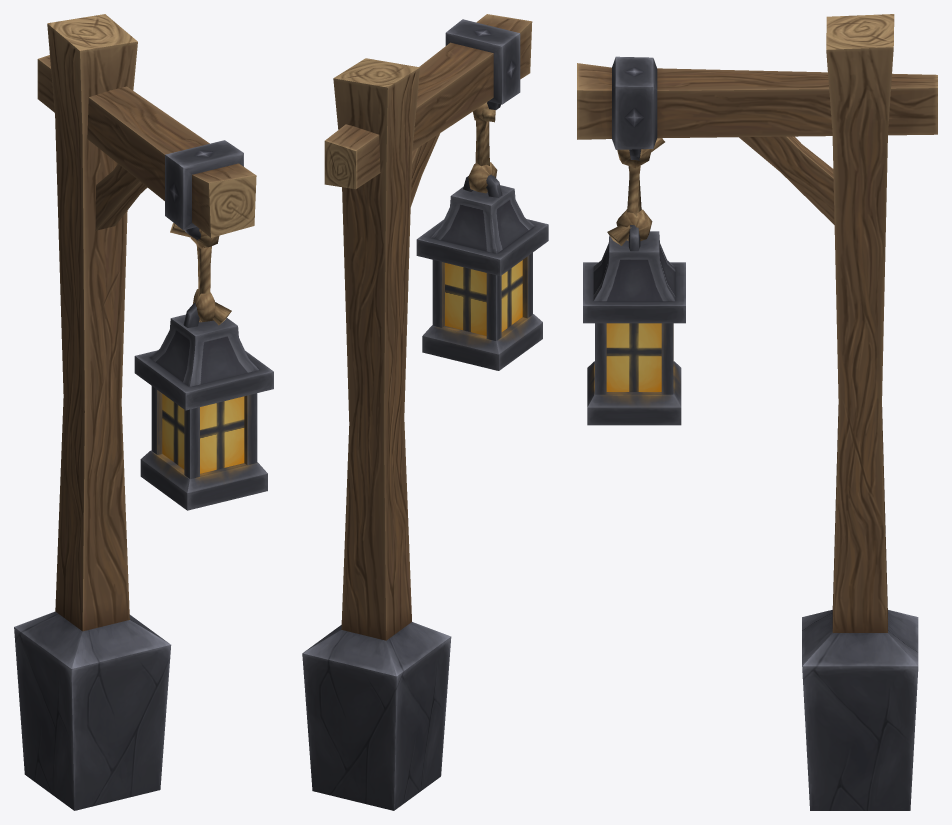
File: Lamp1.fbx
3 views of the same model, side by side, from view 1: azimuth 30°, elevation 25°; view 2: azimuth 150°, elevation 25°; view 3: azimuth 270°, elevation 25° (orthographic). The views are drawn at different scales.
Visible parts, largest first — view 1: polySurface41; view 2: polySurface41; view 3: polySurface41.
Part boxes in pixels (x1,y1,x2,y2): polySurface41: [14, 14, 273, 810]; polySurface41: [302, 14, 548, 810]; polySurface41: [577, 14, 937, 810].
Size of the model in its own units: 29.67 by 214 by 92.06.
1 material, 1 textured.
